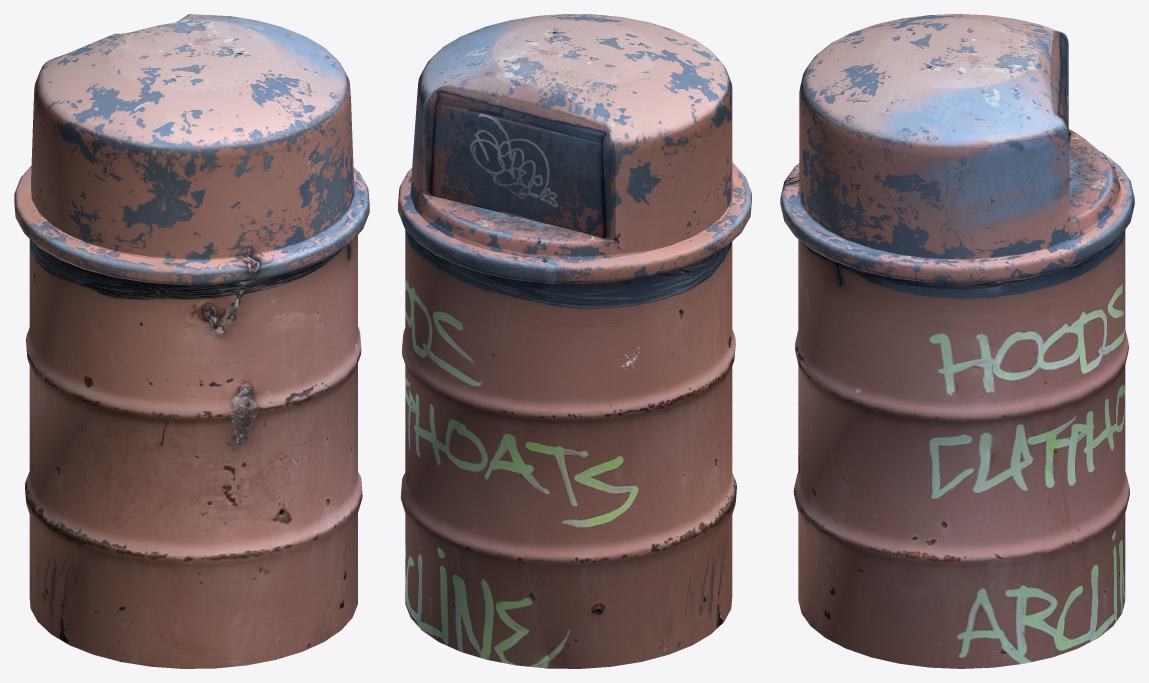
File: photorealistic_trash_can_low_poly.glb
3 views of the same model, side by side, from view 1: azimuth 30°, elevation 25°; view 2: azimuth 150°, elevation 25°; view 3: azimuth 270°, elevation 25° (orthographic).
Parts seen in each view (by area): view 1: trash_rebake; view 2: trash_rebake; view 3: trash_rebake.
Part boxes in pixels (left/top/right/bottom): trash_rebake: left=14, top=14, right=369, bottom=668; trash_rebake: left=398, top=14, right=751, bottom=668; trash_rebake: left=780, top=14, right=1134, bottom=668.
Bounding box in the file's own units: 0.6389 × 1.09 × 0.6389.
Materials: 1 (1 with a texture image).
